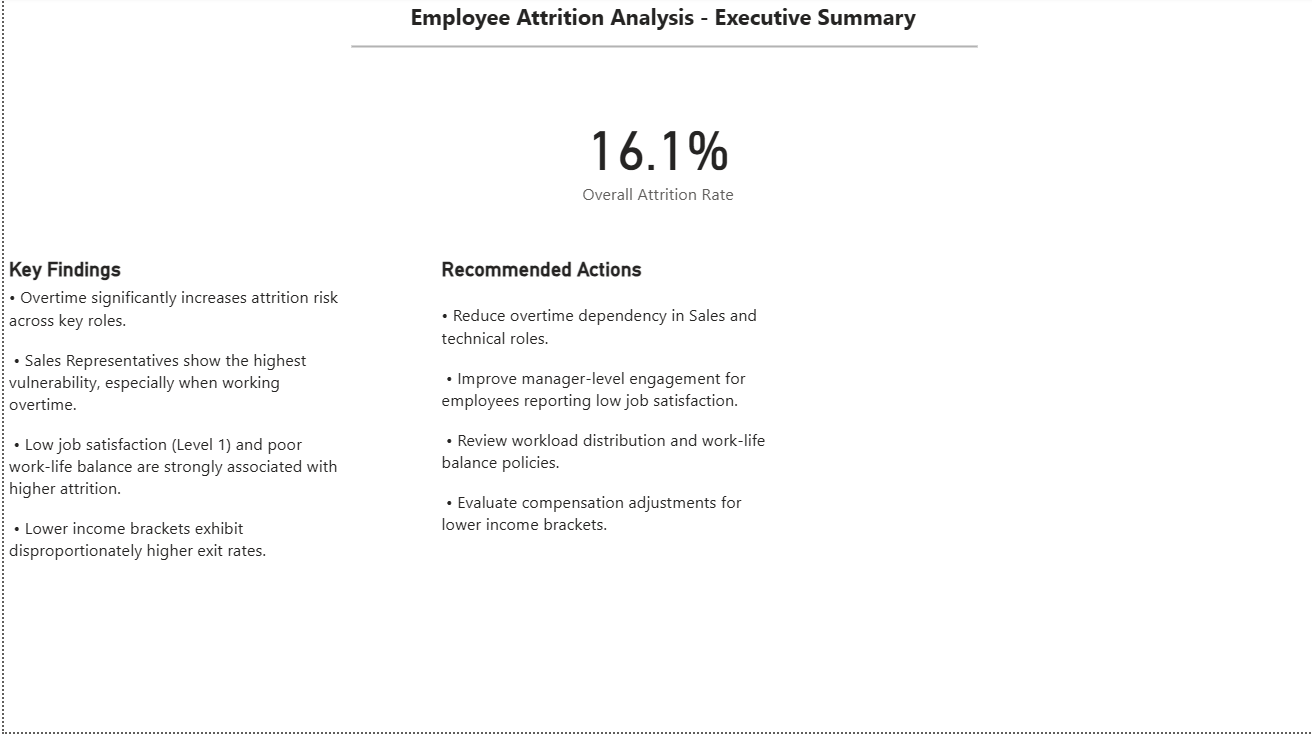

The dashboard page shown, as its layout file describes it:
{"tool":"powerbi","page":{"name":"Executive Summary","canvas":[1280,720],"ordinal":3},"visuals":[{"type":"textbox","box":[10,0,1270,88.8],"z":0},{"type":"textbox","title":"Key Findings","box":[0,256.2,340,303.8],"z":1},{"type":"textbox","title":"Recommended Actions","box":[422.5,256.2,340,305],"z":2},{"type":"card","fields":{"Values":["HR.Attrition Rate %"]},"box":[390,65,500,181.2],"z":3},{"type":"shape","box":[340,0,612.5,98.8],"z":4}]}

Visuals, with their boxes in screenshot pixels (x1, y1, x2, y2), scaled from the page's 1280x720 canvas onto the 1312x735 screenshot:
textbox: <bbox>10, 0, 1311, 91</bbox>
"Key Findings" textbox: <bbox>0, 262, 348, 572</bbox>
"Recommended Actions" textbox: <bbox>433, 262, 782, 573</bbox>
card - HR.Attrition Rate %: <bbox>400, 66, 912, 251</bbox>
shape: <bbox>348, 0, 976, 101</bbox>
